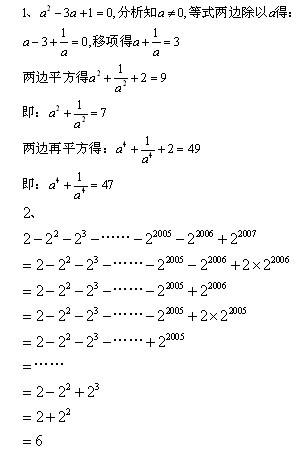cube: (90, 302, 101, 315), (95, 378, 101, 393), (81, 228, 87, 238), (93, 254, 98, 265), (93, 282, 99, 289), (94, 330, 97, 341)
